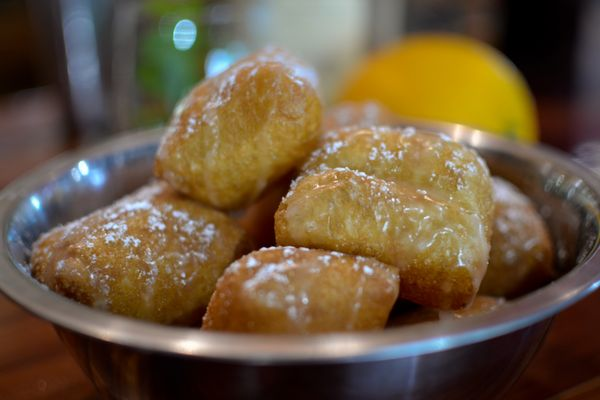sushi: (31, 20, 599, 391)
taco: (334, 30, 541, 143)
